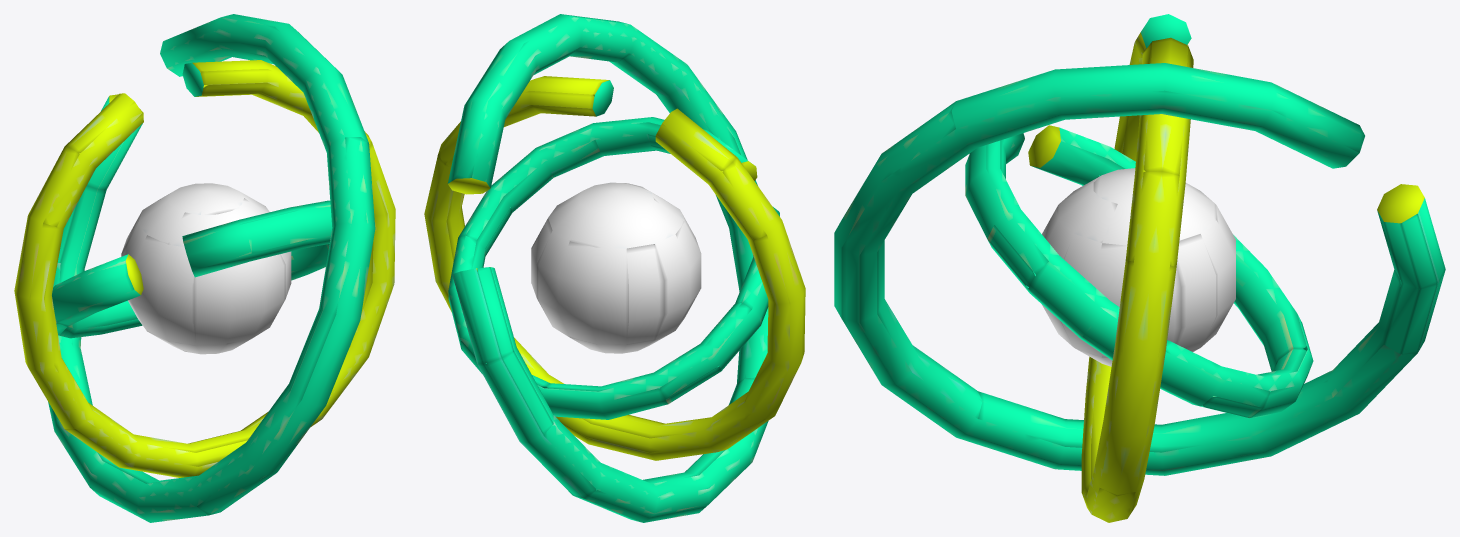
3 views of the same model, side by side, from view 1: azimuth 30°, elevation 25°; view 2: azimuth 150°, elevation 25°; view 3: azimuth 270°, elevation 25° (orthographic). The views are drawn at different scales.
Parts seen in each view (by area): view 1: torus_2, torus_1, sphere, torus; view 2: torus_2, torus_1, sphere, torus; view 3: torus_2, torus, torus_1, sphere.
Boxes of the visible parts, bbox=[...] form: torus_2: bbox=[48, 14, 375, 522]; torus_1: bbox=[14, 60, 395, 477]; sphere: bbox=[121, 183, 291, 354]; torus: bbox=[52, 200, 332, 338]; torus_2: bbox=[447, 14, 768, 522]; torus_1: bbox=[424, 76, 805, 460]; sphere: bbox=[531, 182, 701, 353]; torus: bbox=[448, 117, 779, 419]; torus_2: bbox=[834, 63, 1445, 475]; torus: bbox=[965, 125, 1313, 417]; torus_1: bbox=[1081, 14, 1193, 522]; sphere: bbox=[1042, 168, 1235, 366].
Bounding box in the file's own units: 169 × 184 × 202.
1 material, 1 textured.
